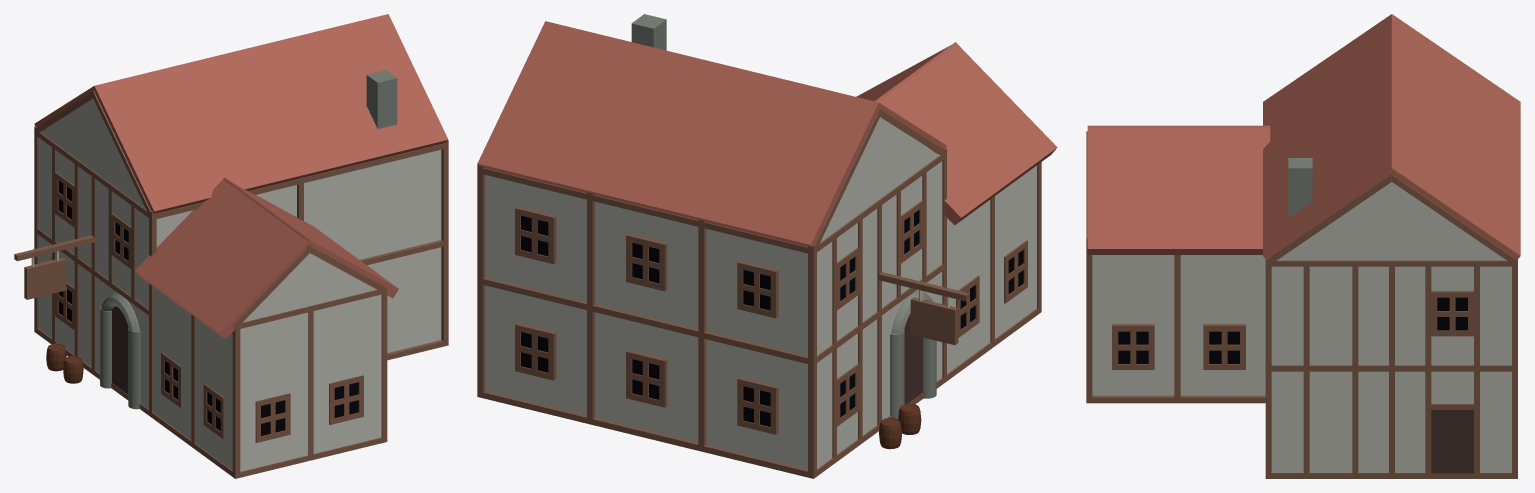
The model's file is timberframedinn_north.obj.
The picture shows the model from 3 angles, left to right: view 1: azimuth 30°, elevation 25°; view 2: azimuth 150°, elevation 25°; view 3: azimuth 270°, elevation 25°; orthographic projection. The views are drawn at different scales.
Parts seen in each view (by area): view 1: Cube.007_Cube.011, Cube.005, Cube.054_Cube.057, Cube.067_Cube.072, Cylinder.001, Cube, Cube.006_Cube.010, Cube.012_Cube.017, Cube.066_Cube.071, Cube.018_Cube.016, Cube.065_Cube.070, Cube.073_Cube.078 (+30 smaller); view 2: Cube.005, Cube.007_Cube.011, Cube.067_Cube.072, Cube.054_Cube.057, Cube.022_Cube.025, Cube.023_Cube.026, Cylinder.001, Cube.021_Cube.024, Cube.028, Cube.020_Cube.023, Cube.019_Cube.022, Cube.017_Cube.021 (+29 smaller); view 3: Cube.005, Cube.007_Cube.011, Cube, Cube.054_Cube.057, Cube.003, Cube.033, Cube.009, Cube.004, Cube.016_Cube.013, Cube.061_Cube.066, Cube.032, Cube.012_Cube.017 (+13 smaller).
Boxes of the visible parts, x1,y1,x2,y2 form: Cube.007_Cube.011: [34, 14, 448, 213]; Cube.005: [38, 99, 441, 408]; Cube.054_Cube.057: [153, 253, 381, 471]; Cube.067_Cube.072: [135, 178, 315, 339]; Cylinder.001: [100, 293, 140, 409]; Cube: [223, 178, 398, 298]; Cube.006_Cube.010: [366, 70, 397, 128]; Cube.012_Cube.017: [441, 140, 448, 345]; Cube.066_Cube.071: [255, 393, 290, 442]; Cube.018_Cube.016: [153, 143, 447, 219]; Cube.065_Cube.070: [329, 375, 363, 424]; Cube.073_Cube.078: [24, 257, 66, 299]; Cube.005: [485, 117, 942, 469]; Cube.007_Cube.011: [477, 21, 946, 247]; Cube.067_Cube.072: [875, 42, 1057, 225]; Cube.054_Cube.057: [947, 165, 1036, 373]; Cube.022_Cube.025: [478, 277, 808, 363]; Cube.023_Cube.026: [483, 390, 812, 478]; Cylinder.001: [890, 290, 936, 419]; Cube.021_Cube.024: [478, 168, 808, 253]; Cube.028: [808, 244, 816, 478]; Cube.020_Cube.023: [737, 377, 778, 434]; Cube.019_Cube.022: [626, 350, 667, 407]; Cube.017_Cube.021: [515, 323, 556, 380]; Cube.005: [1271, 182, 1511, 472]; Cube.007_Cube.011: [1263, 14, 1520, 258]; Cube: [1087, 125, 1270, 254]; Cube.054_Cube.057: [1092, 255, 1265, 395]; Cube.003: [1431, 410, 1473, 473]; Cube.033: [1431, 291, 1473, 336]; Cube.009: [1112, 324, 1154, 369]; Cube.004: [1203, 324, 1245, 369]; Cube.016_Cube.013: [1270, 365, 1513, 371]; Cube.061_Cube.066: [1087, 395, 1265, 403]; Cube.032: [1270, 260, 1513, 266]; Cube.012_Cube.017: [1265, 258, 1271, 478].
Bounding box in the file's own units: 15.3 × 11.25 × 14.29.
